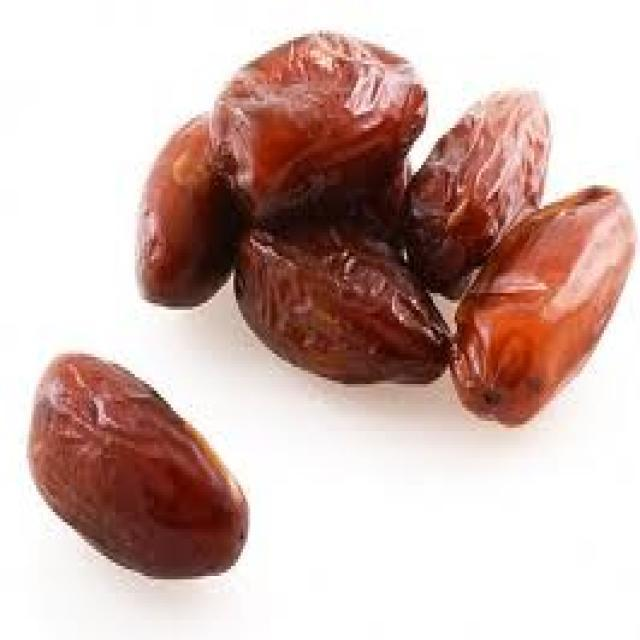Dates: (421, 67, 640, 455), (9, 313, 280, 603)
